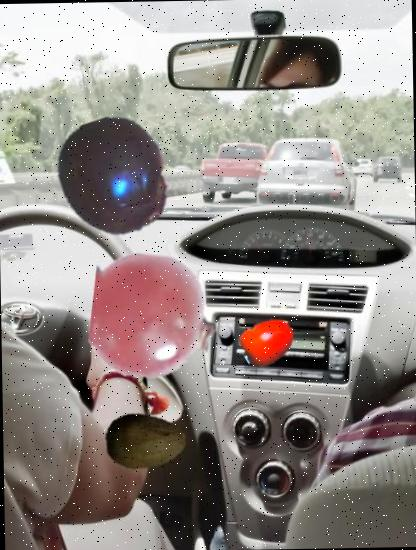Kaki: (238, 312, 296, 370)
Papaya: (103, 400, 188, 484)
Passion: (53, 116, 176, 240)
Redcurrant: (90, 251, 220, 381)
